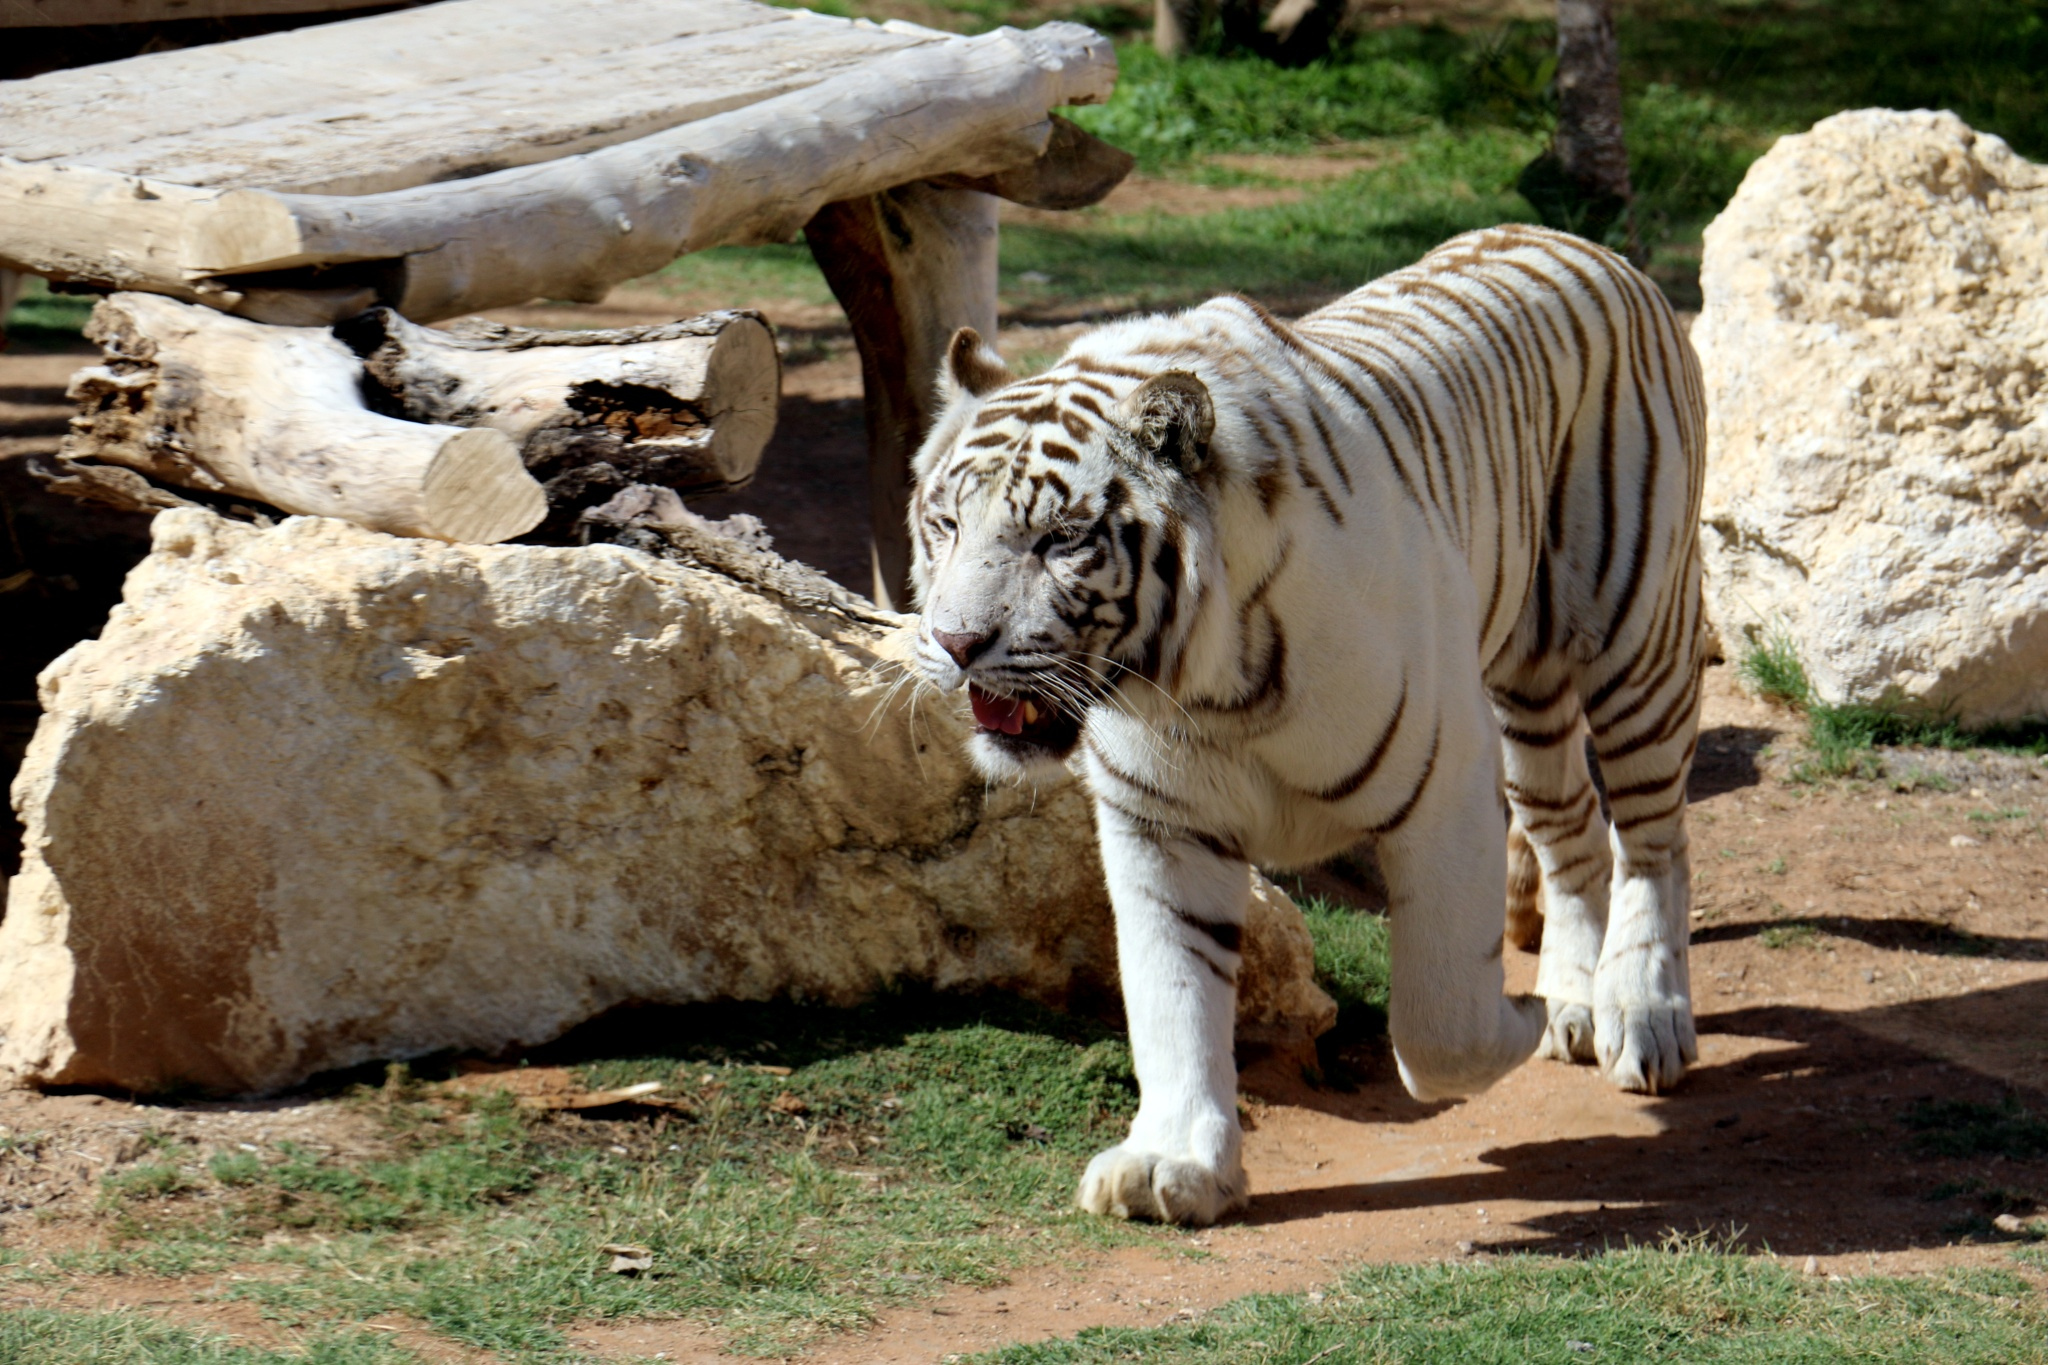tiger: (917, 212, 1791, 1267)
